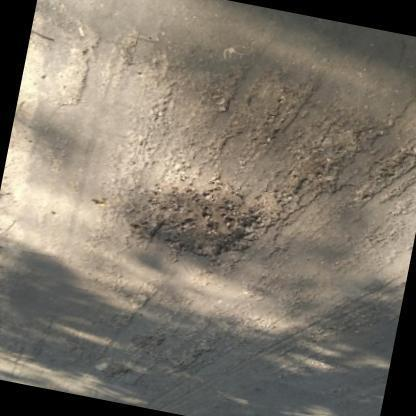pothole: (134, 160, 266, 262)
